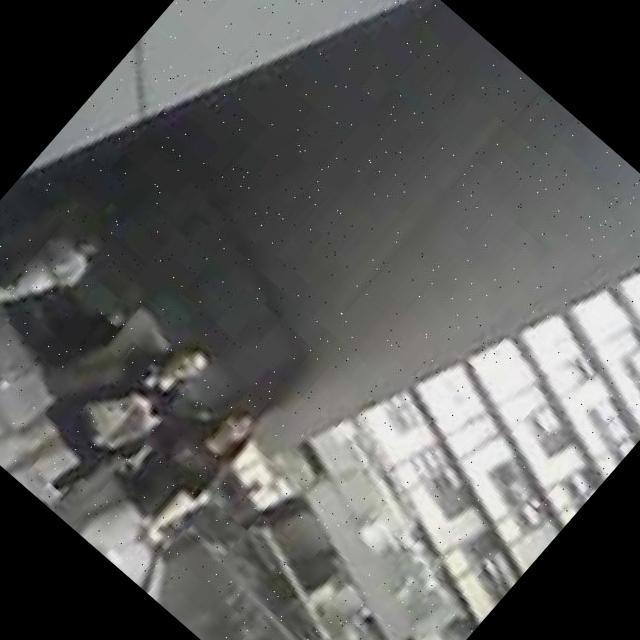person: (0, 262, 219, 528), (48, 354, 266, 582), (0, 264, 138, 417), (0, 206, 101, 349)
